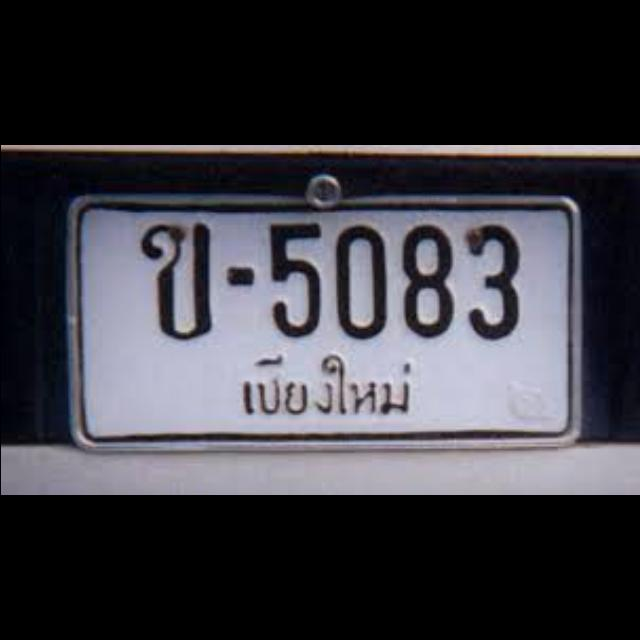licenseplate: (68, 194, 582, 448)
